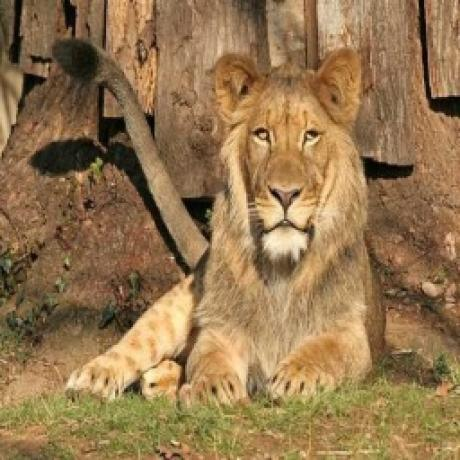Lion: (48, 36, 389, 412)
